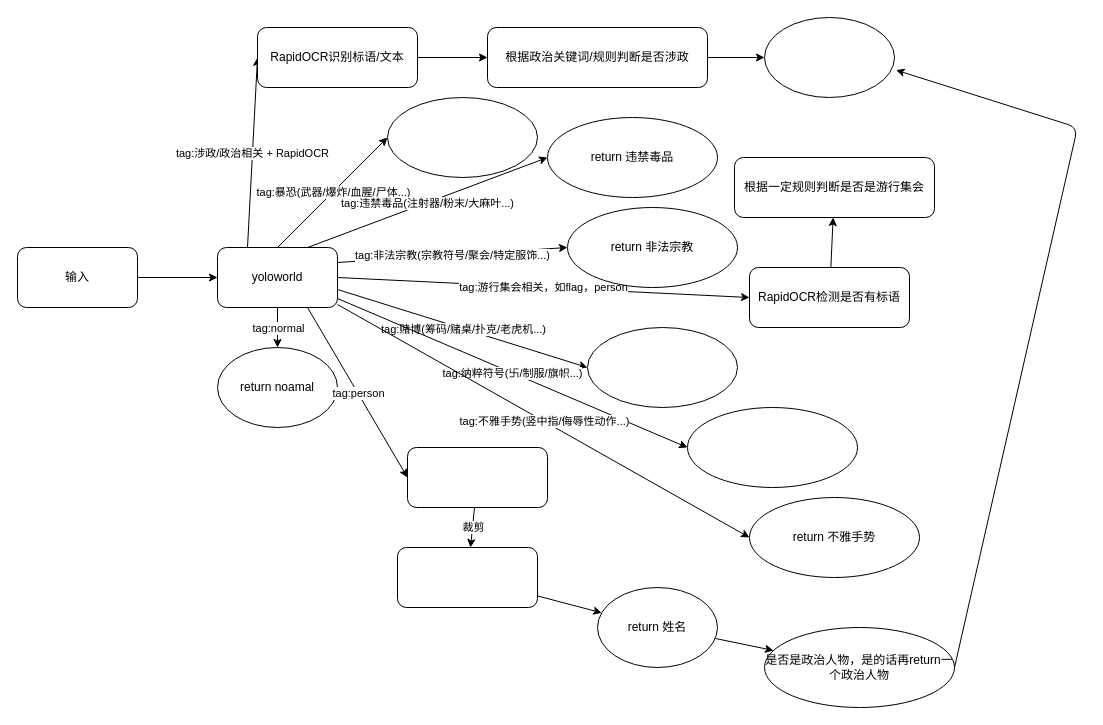
The diagram is 1103 pixels wide and 725 high, and some of its shapes have lost their labels. The centre of each missing label's shape, as x and y in pixels:
Retainaface: [477,477]
return 暴恐: [462,137]
return 涉政: [829,57]
return 纳粹符号: [772,447]
return 赌博: [662,367]
人脸识别模型：arcface: [467,577]
